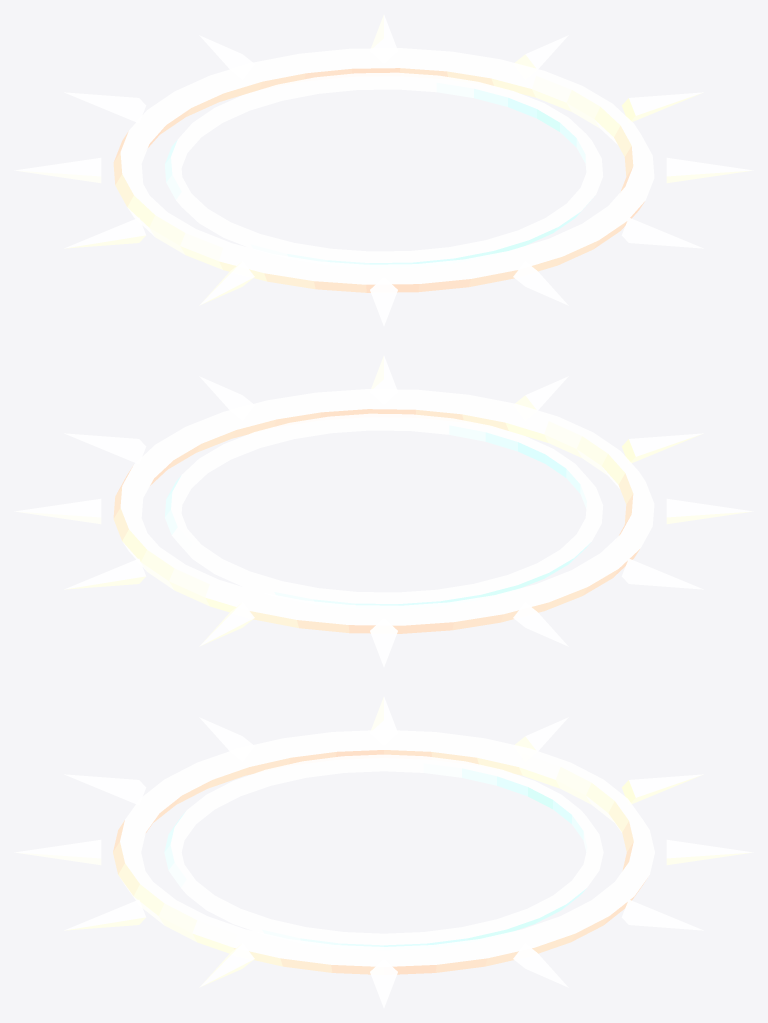
The model's file is shockwave.glb.
The picture shows the model from 3 angles, top to bottom: view 1: azimuth 30°, elevation 25°; view 2: azimuth 150°, elevation 25°; view 3: azimuth 270°, elevation 25°; orthographic projection.
Visible parts, largest first — view 1: WaveRingOuter, WaveRingInner, WaveSpike05, WaveSpike11, WaveSpike06, WaveSpike10, WaveSpike04, WaveSpike00, WaveSpike07, WaveSpike09, WaveSpike08, WaveSpike01 (+1 smaller); view 2: WaveRingOuter, WaveRingInner, WaveSpike01, WaveSpike07, WaveSpike02, WaveSpike06, WaveSpike08, WaveSpike00, WaveSpike03, WaveSpike05, WaveSpike04, WaveSpike11 (+1 smaller); view 3: WaveRingOuter, WaveRingInner, WaveSpike03, WaveSpike09, WaveSpike02, WaveSpike10, WaveSpike04, WaveSpike08, WaveSpike01, WaveSpike11, WaveSpike00, WaveSpike05 (+1 smaller).
Part boxes in pixels (x1,y1,x2,y2): WaveRingOuter: [113, 48, 654, 292]; WaveRingInner: [164, 72, 603, 264]; WaveSpike05: [14, 157, 101, 183]; WaveSpike11: [666, 157, 753, 183]; WaveSpike06: [64, 217, 146, 248]; WaveSpike10: [621, 217, 703, 248]; WaveSpike04: [64, 92, 146, 121]; WaveSpike00: [621, 92, 703, 121]; WaveSpike07: [199, 261, 254, 305]; WaveSpike09: [513, 261, 568, 305]; WaveSpike08: [370, 277, 397, 325]; WaveSpike01: [515, 35, 568, 68]; WaveRingOuter: [113, 389, 654, 633]; WaveRingInner: [164, 413, 603, 605]; WaveSpike01: [14, 498, 101, 524]; WaveSpike07: [666, 498, 753, 524]; WaveSpike02: [64, 558, 146, 589]; WaveSpike06: [621, 558, 703, 589]; WaveSpike08: [621, 433, 703, 462]; WaveSpike00: [64, 433, 146, 462]; WaveSpike03: [199, 602, 254, 646]; WaveSpike05: [513, 602, 568, 646]; WaveSpike04: [370, 618, 397, 666]; WaveSpike11: [199, 376, 252, 409]; WaveRingOuter: [113, 730, 654, 974]; WaveRingInner: [164, 754, 603, 946]; WaveSpike03: [666, 839, 753, 865]; WaveSpike09: [14, 839, 101, 865]; WaveSpike02: [621, 899, 703, 930]; WaveSpike10: [64, 899, 146, 930]; WaveSpike04: [621, 774, 703, 803]; WaveSpike08: [64, 774, 146, 803]; WaveSpike01: [513, 943, 568, 987]; WaveSpike11: [199, 943, 254, 987]; WaveSpike00: [370, 959, 397, 1007]; WaveSpike05: [515, 717, 568, 750].
Size of the model in its own units: 2.88 by 0.11 by 2.88.
